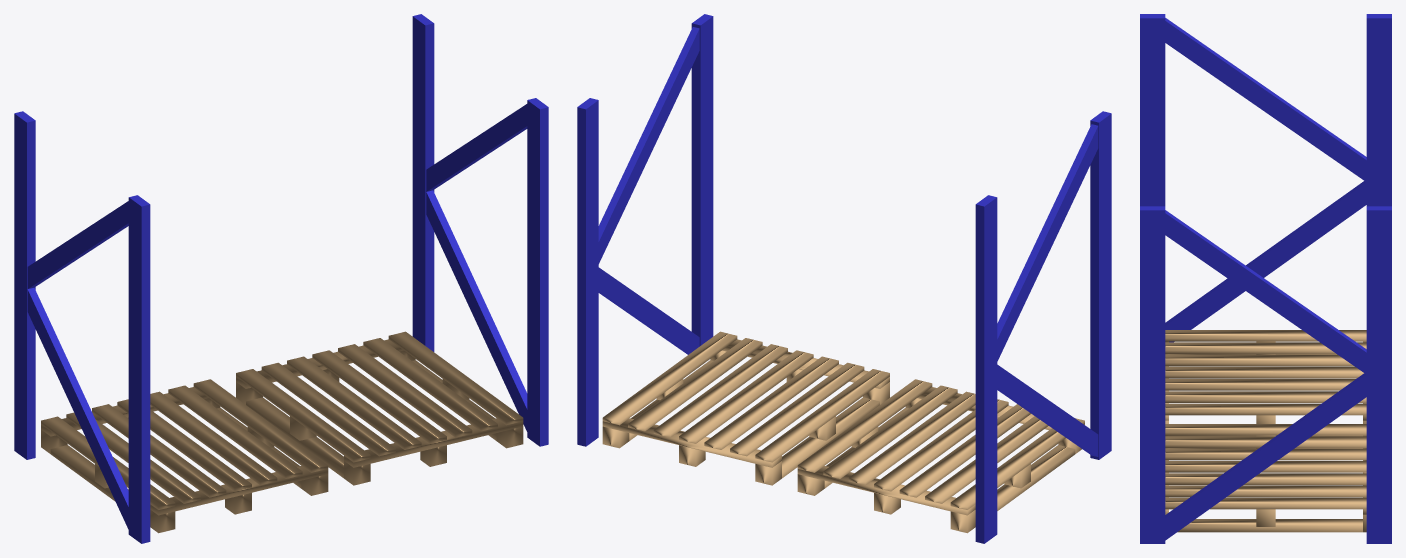
3 renders of one model, left to right at view 1: azimuth 30°, elevation 25°; view 2: azimuth 150°, elevation 25°; view 3: azimuth 270°, elevation 25°, orthographic.
Visible parts, largest first — view 1: Cube.006; view 2: Cube.006; view 3: Cube.006.
Boxes of the visible parts, x1=… form: Cube.006: x1=14, y1=14, x2=548, y2=543; Cube.006: x1=577, y1=14, x2=1111, y2=543; Cube.006: x1=1140, y1=14, x2=1391, y2=543.
Bounding box in the file's own units: 2.4 × 1.9 × 1.3.
